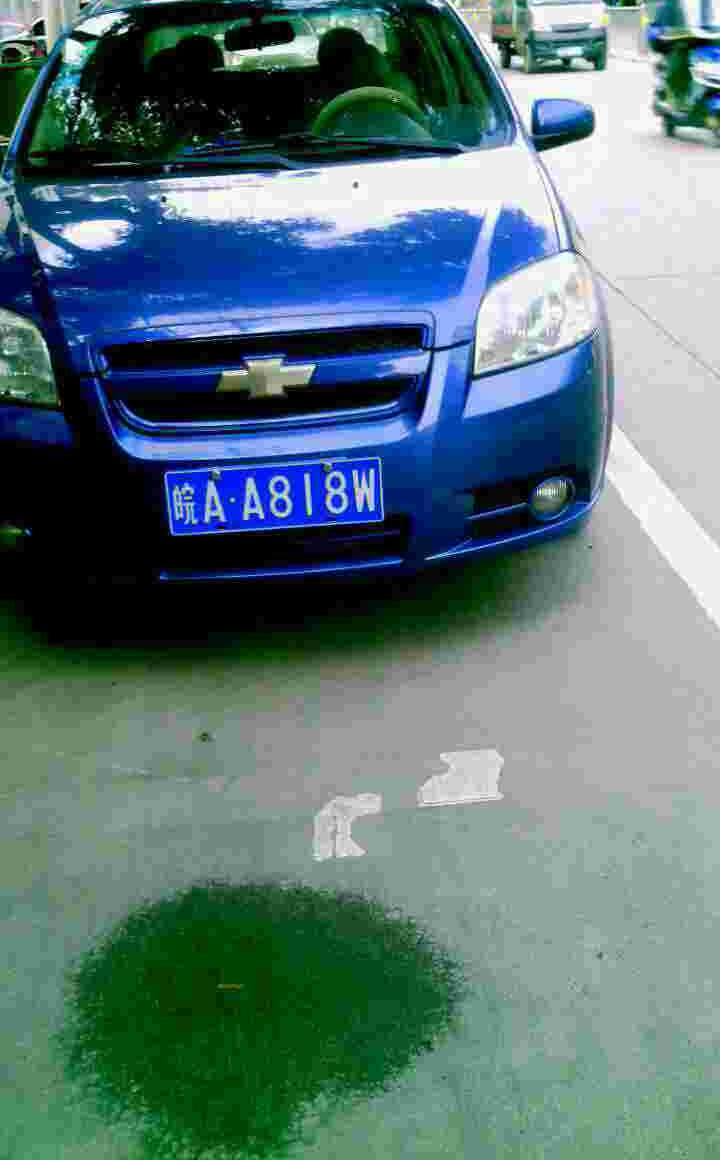license_plate: (163, 451, 389, 546)
